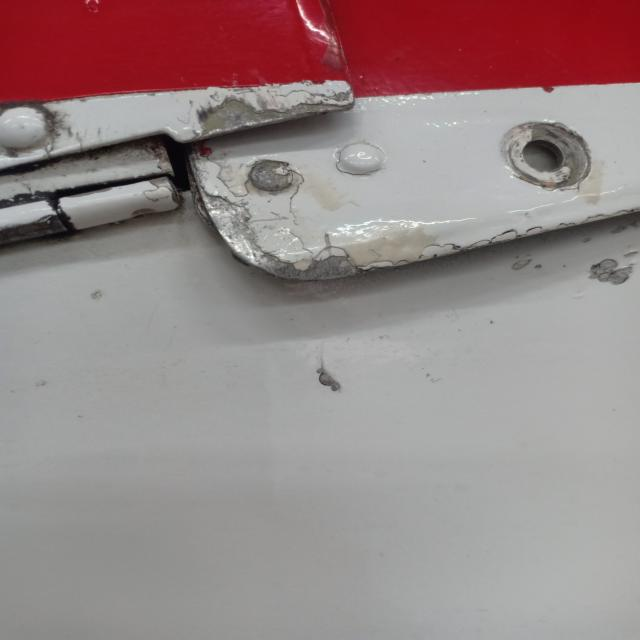Rupture: (152, 72, 640, 309), (0, 82, 69, 204), (285, 351, 369, 394)
